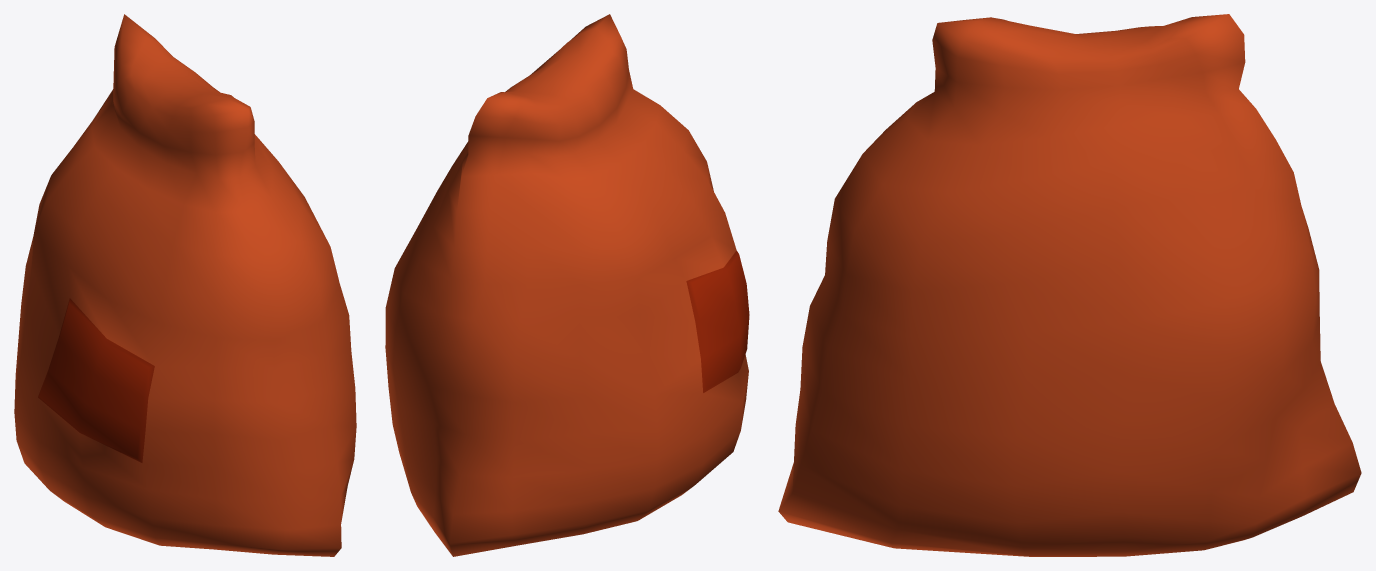
The model's file is item7.glb.
The picture shows the model from 3 angles, left to right: view 1: azimuth 30°, elevation 25°; view 2: azimuth 150°, elevation 25°; view 3: azimuth 270°, elevation 25°; orthographic projection. The views are drawn at different scales.
Parts seen in each view (by area): view 1: Item7; view 2: Item7; view 3: Item7.
Boxes of the visible parts, x1,y1,x2,y2 form: Item7: (14,14,356,556); Item7: (385,14,749,556); Item7: (778,14,1361,556).
Size of what is drawn, in the model's own units: 0.2776 by 0.3955 by 0.4204.
Materials: 1 (1 with a texture image).
